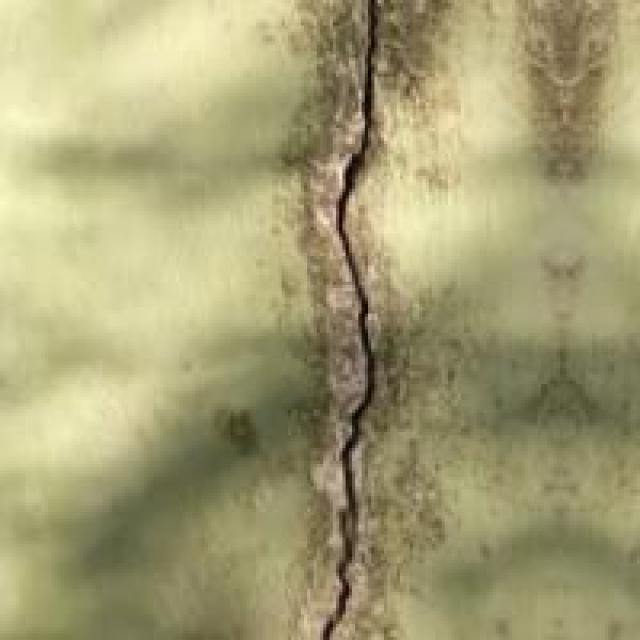crack: (214, 0, 496, 637)
